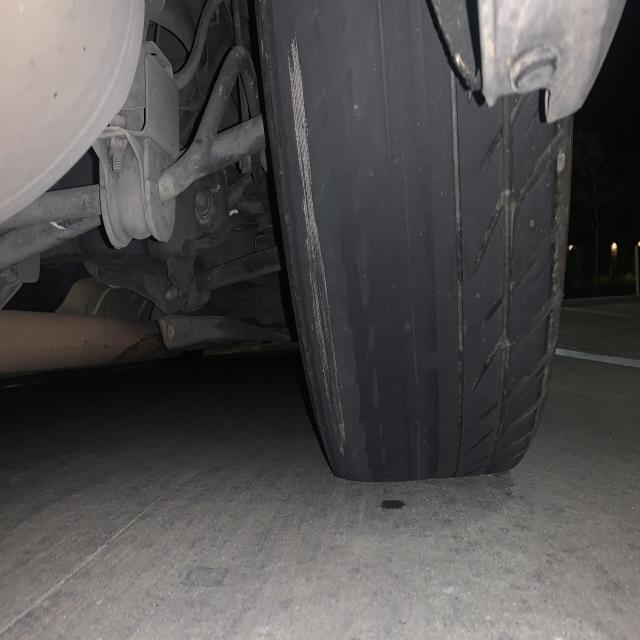Flat spots: (342, 114, 526, 484)
